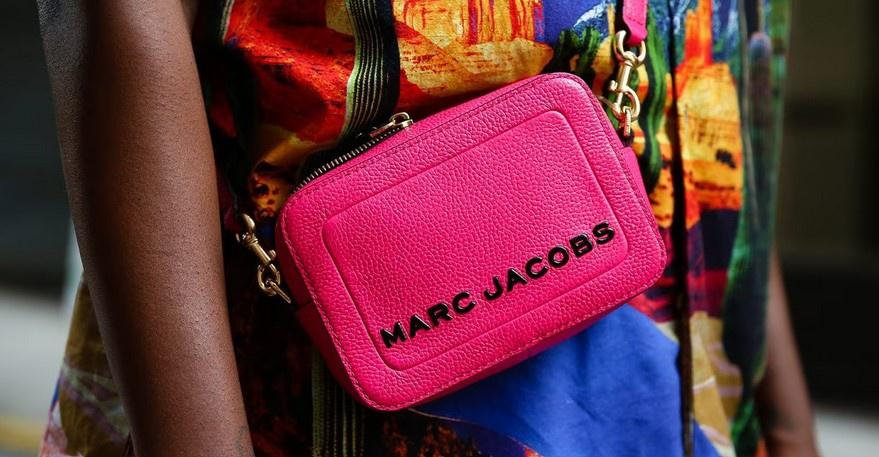MARC-JACOBS: (380, 221, 615, 348)
